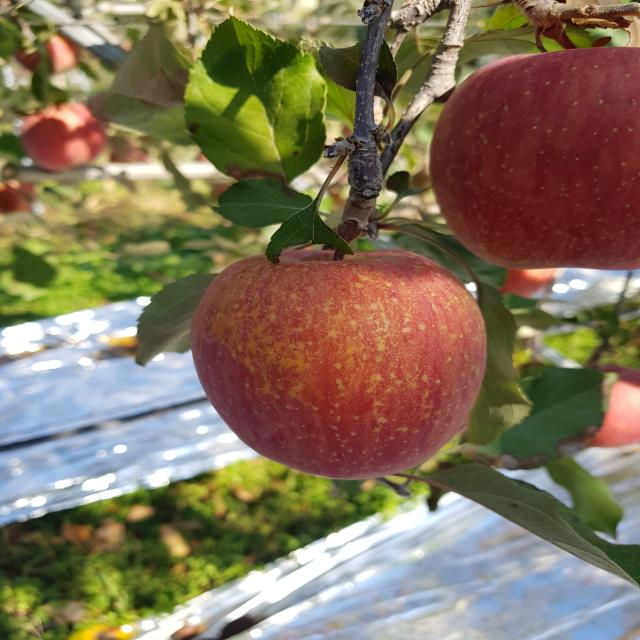fresh: (184, 237, 498, 485)
